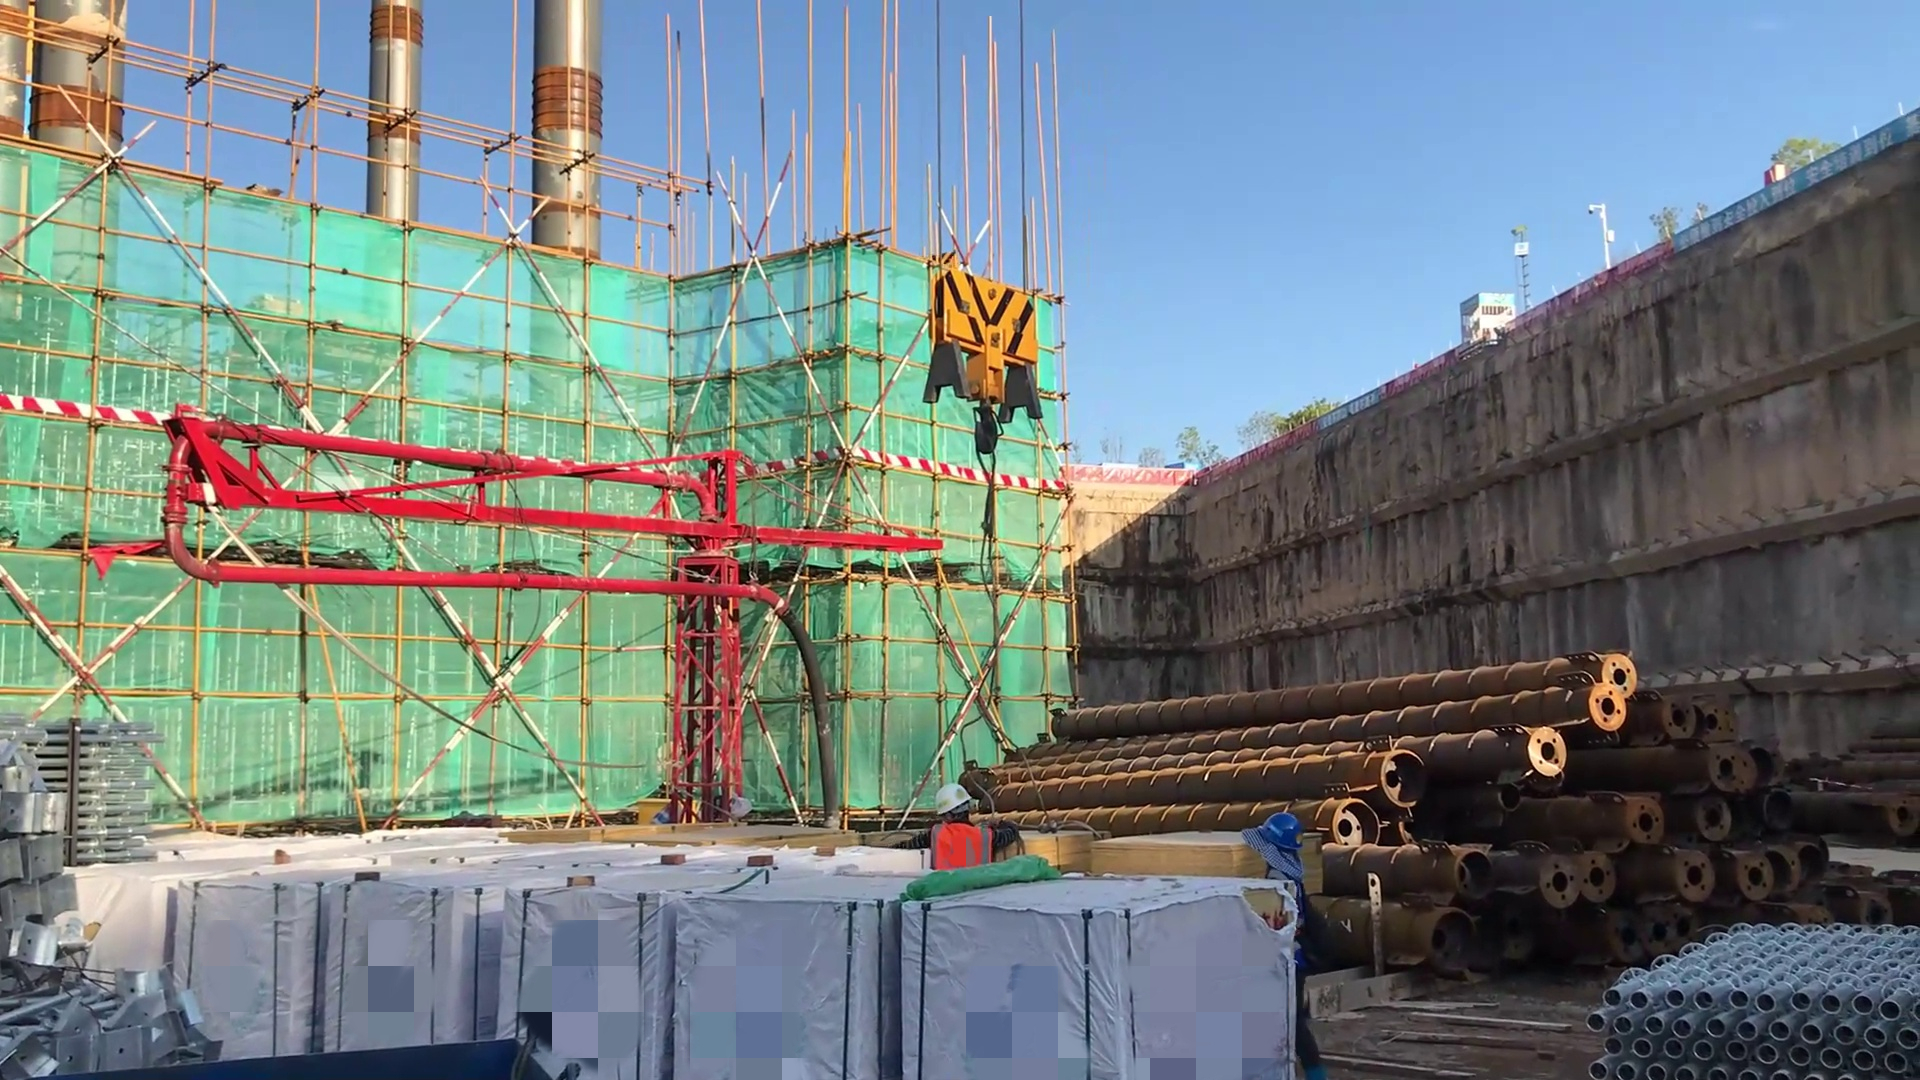board: (1080, 826, 1255, 886), (995, 828, 1113, 877)
ebox: (630, 792, 688, 837)
helmet: (1245, 804, 1312, 867), (931, 778, 981, 824)
hook: (919, 255, 1061, 499)
person: (1225, 793, 1353, 1080), (908, 780, 1015, 902)
scaffold: (1581, 899, 1918, 1080), (26, 702, 176, 864)
slogan: (1669, 95, 1920, 260), (1308, 394, 1384, 431)
vest: (1258, 857, 1320, 1016), (914, 819, 996, 877)
